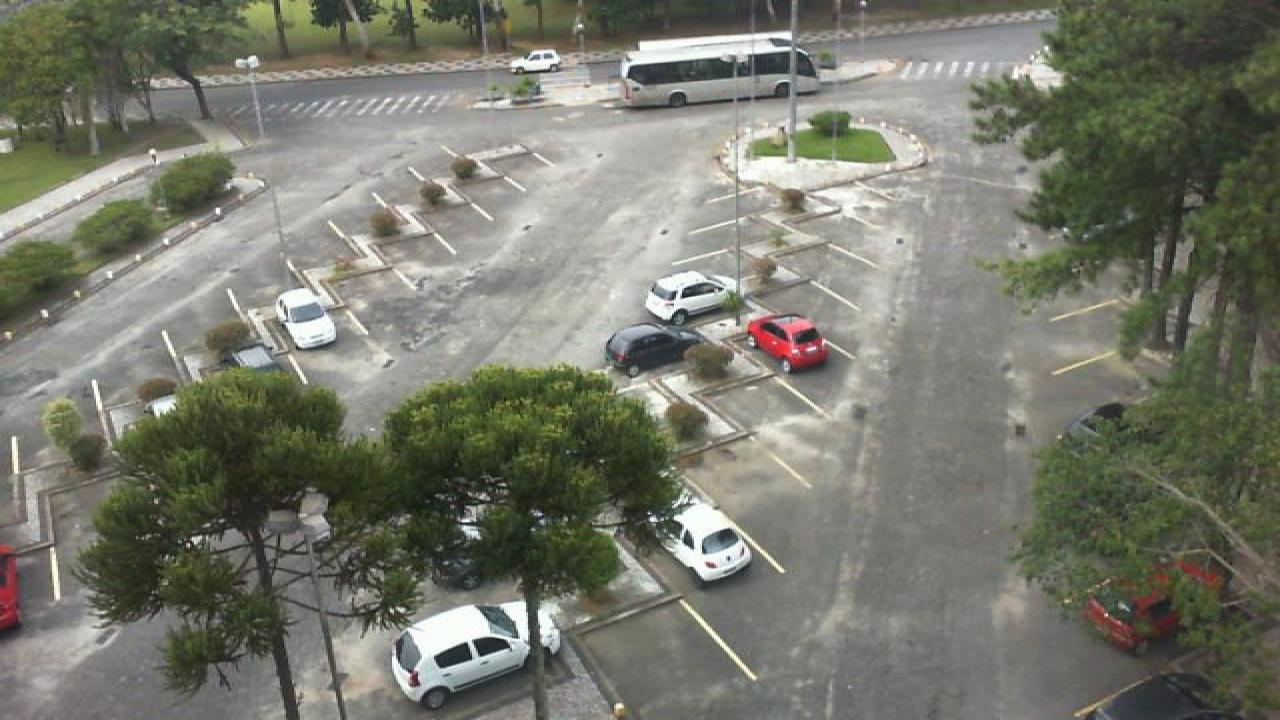Car: (388, 600, 562, 710), (1082, 560, 1226, 652), (1080, 671, 1246, 720), (658, 500, 754, 582), (602, 322, 708, 377), (642, 270, 740, 326), (746, 314, 832, 374), (274, 287, 340, 350), (0, 542, 24, 629), (228, 343, 278, 375), (518, 50, 562, 74), (148, 395, 188, 418)
